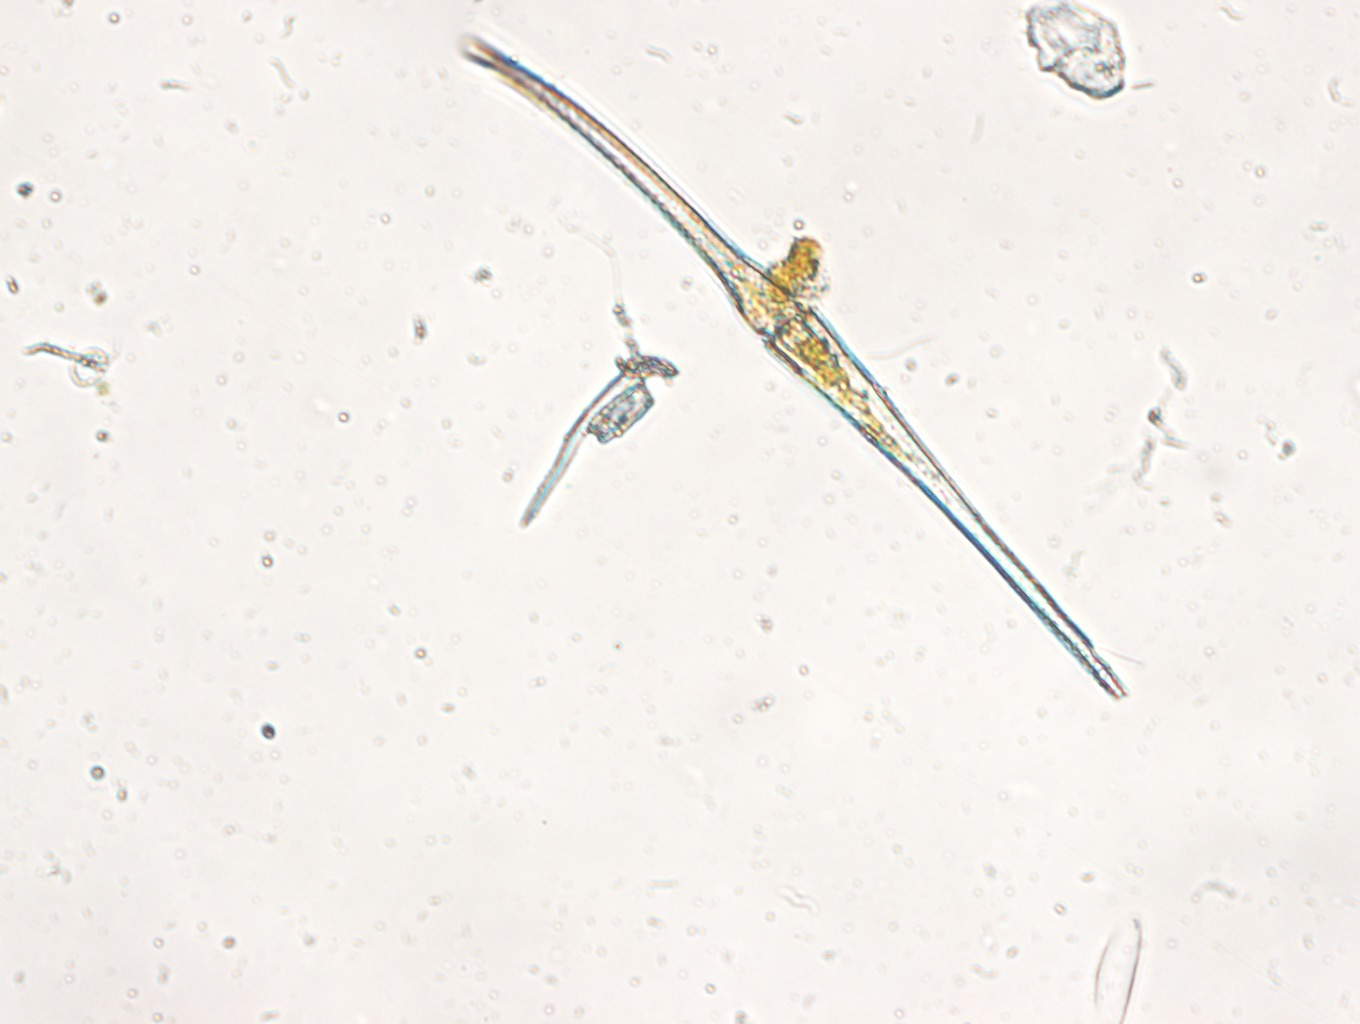ceratium fusus: (450, 25, 1129, 706)
